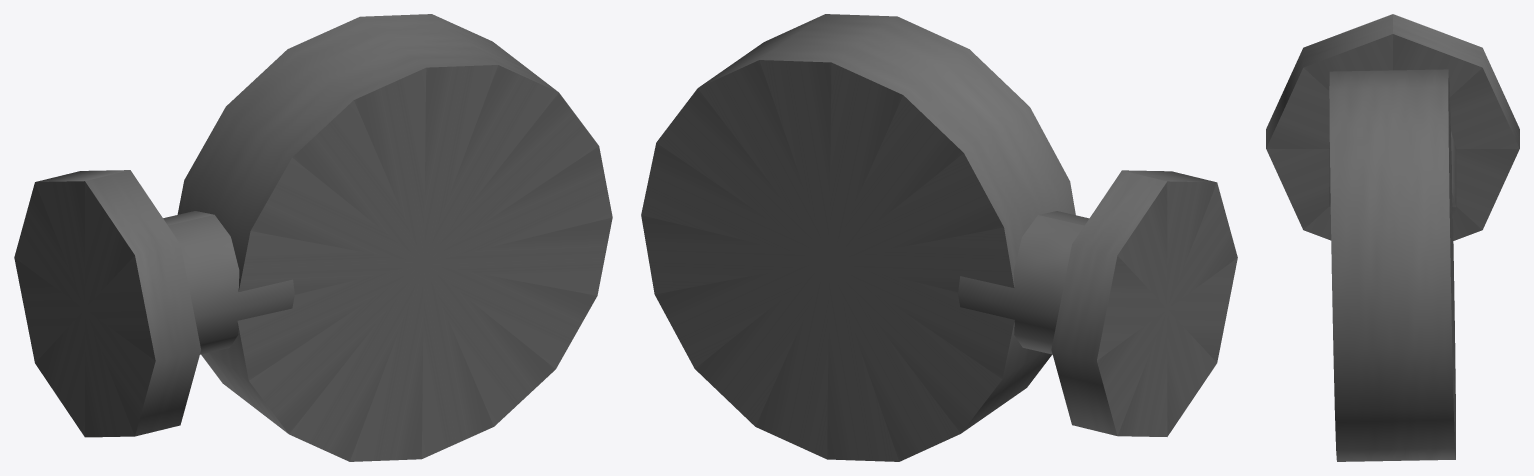
The model's file is mastarmcurve_10x2_c11_west.obj.
3 views of the same model, side by side, from view 1: azimuth 30°, elevation 25°; view 2: azimuth 150°, elevation 25°; view 3: azimuth 270°, elevation 25° (orthographic). The views are drawn at different scales.
Visible parts, largest first — view 1: mastarm_10x2_c11_west; view 2: mastarm_10x2_c11_west; view 3: mastarm_10x2_c11_west.
Boxes of the visible parts, bbox=[...] form: mastarm_10x2_c11_west: bbox=[14, 14, 612, 461]; mastarm_10x2_c11_west: bbox=[641, 14, 1237, 461]; mastarm_10x2_c11_west: bbox=[1266, 14, 1519, 461].
Bounding box in the file's own units: 0.8075 × 0.6199 × 0.4.
